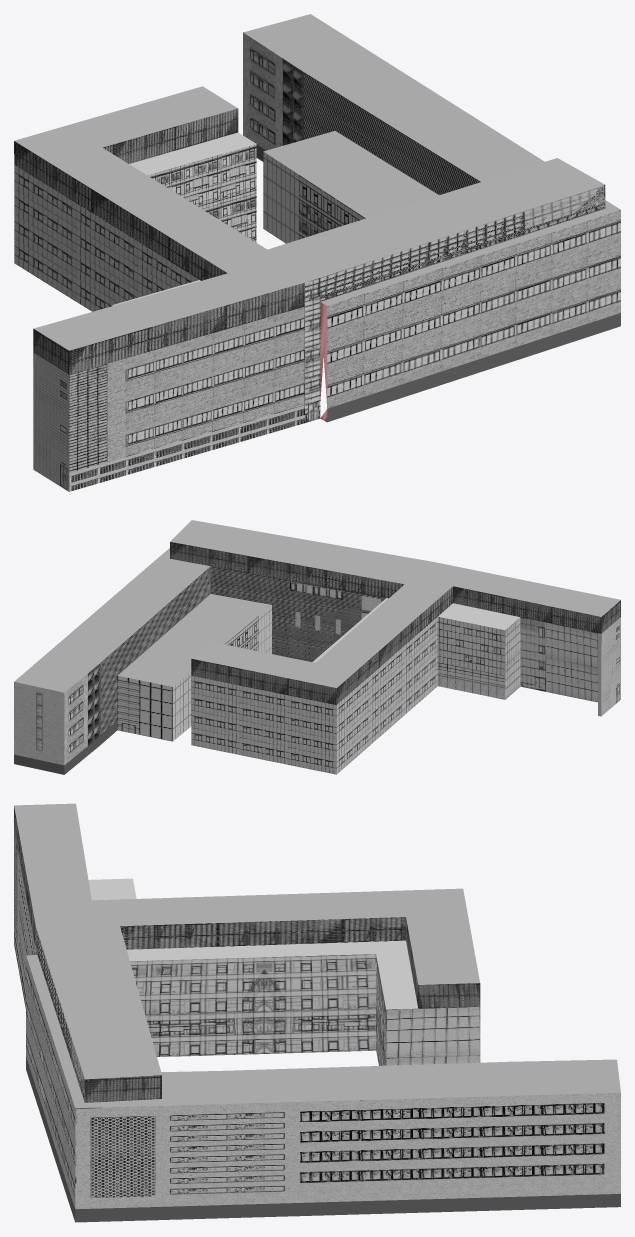
Rendered from Chemie.gltf.
3 views of the same model, one above another, from view 1: azimuth 30°, elevation 25°; view 2: azimuth 150°, elevation 25°; view 3: azimuth 270°, elevation 25° (orthographic). The views are drawn at different scales.
Parts seen in each view (by area): view 1: Chemie1.1; view 2: Chemie1.1; view 3: Chemie1.1.
Boxes of the visible parts, left/top/right/bottom form: Chemie1.1: left=14, top=14, right=620, bottom=491; Chemie1.1: left=14, top=520, right=620, bottom=774; Chemie1.1: left=14, top=803, right=620, bottom=1222.
Size of the model in its own units: 119 by 27.29 by 108.
Materials: 26 (21 with a texture image).
